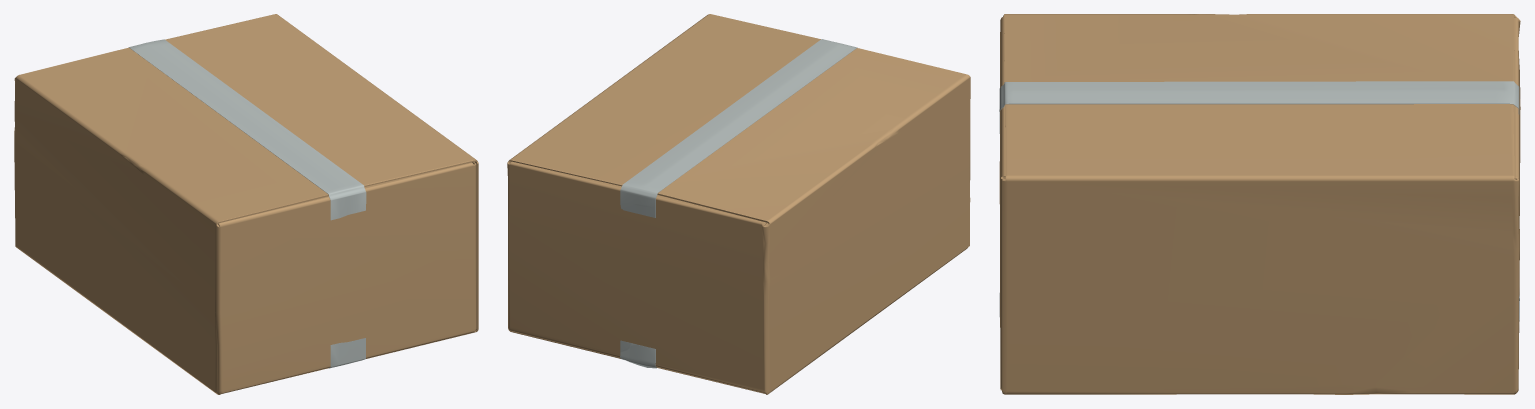
File: box_printer_brown_b09.glb
3 renders of one model, left to right at view 1: azimuth 30°, elevation 25°; view 2: azimuth 150°, elevation 25°; view 3: azimuth 270°, elevation 25°, orthographic. The views are drawn at different scales.
Size of the model in its own units: 0.2247 by 0.1461 by 0.3029.
